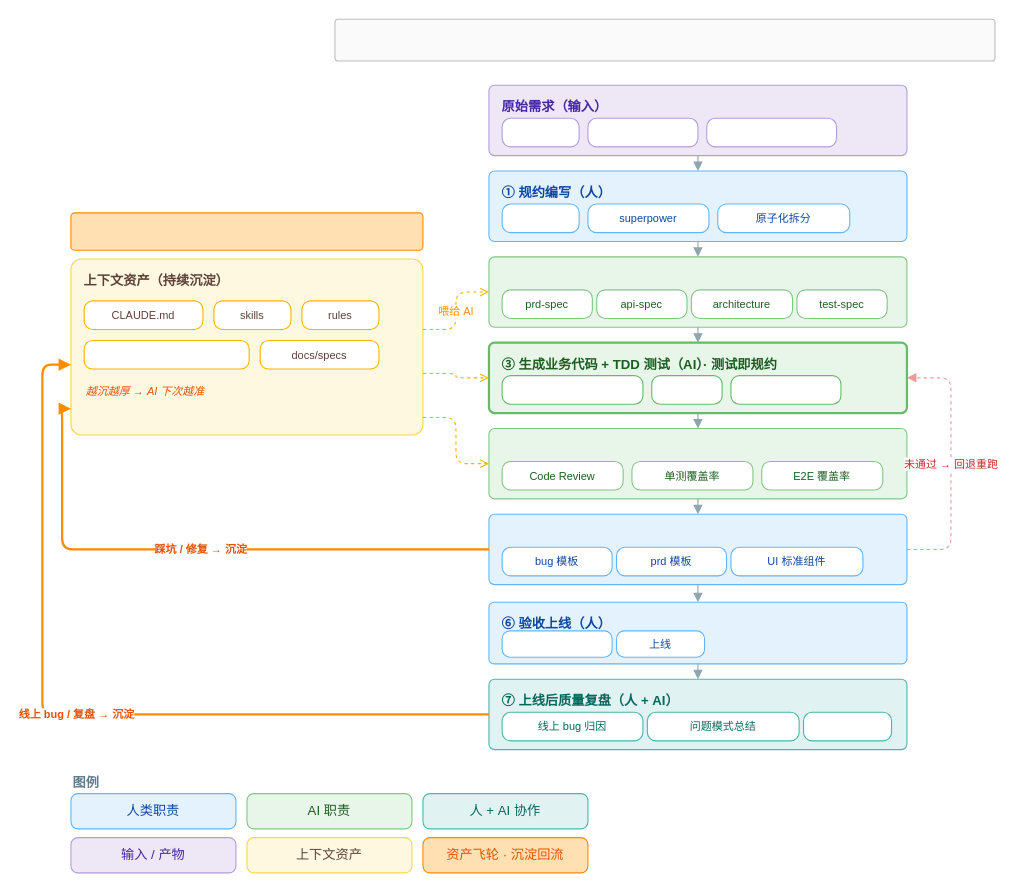
Image size: 1018x892. Some labels were removed from this diagram. The box of each missing label's shape, as (x1, y1, x2, y2) in pixels:
E2E 用例: (730, 375, 841, 404)
memory（踩坑记忆）: (83, 339, 249, 369)
PRD: (501, 117, 579, 147)
QA 测试用例: (706, 117, 837, 147)
SDD: (501, 203, 579, 233)
UI 设计稿: (587, 117, 698, 147)
② 生成规约文档（AI）: (488, 256, 907, 327)
④ 生成质量报告（AI）: (488, 427, 907, 499)
⑤ 审查 + 迭代修复（人）: (488, 513, 907, 585)
一个需求的完整 AI 交付链路（SDD 规约驱动 · 人机分工 · 资产飞轮）: (334, 18, 995, 61)
业务模块代码: (501, 375, 643, 404)
单测: (651, 375, 722, 404)
灰度发布: (501, 630, 612, 657)
资产化: (802, 711, 892, 741)
资产飞轮：越用越聪明: (70, 212, 423, 250)
